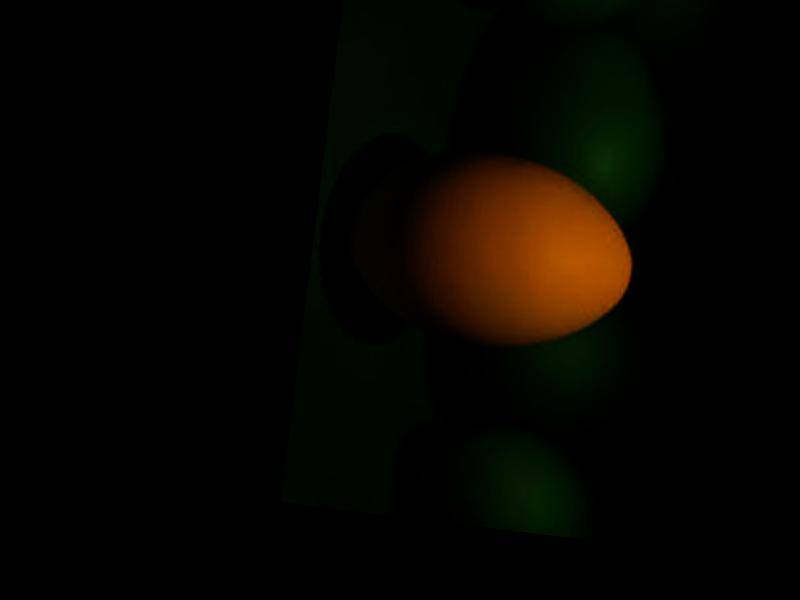Eggs: (336, 135, 643, 363)
